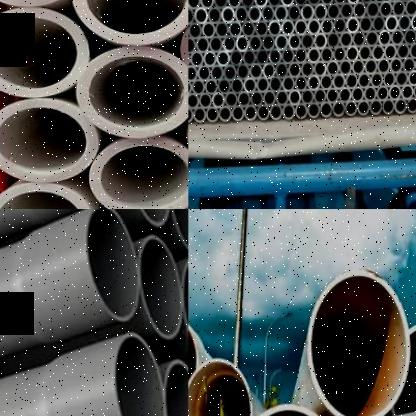pipe: (307, 268, 410, 416), (76, 46, 188, 138), (0, 7, 90, 98), (0, 98, 98, 181), (88, 138, 188, 209), (82, 209, 140, 326), (72, 0, 188, 46), (139, 234, 186, 341), (112, 330, 166, 416), (188, 358, 252, 416), (0, 183, 94, 209), (390, 322, 416, 416), (164, 358, 188, 416), (326, 2, 341, 21), (234, 5, 249, 24), (379, 0, 393, 19), (261, 4, 275, 23), (384, 14, 398, 33), (359, 15, 373, 34), (294, 18, 308, 37), (281, 18, 295, 37), (255, 19, 269, 38), (215, 20, 229, 39), (194, 7, 209, 24), (235, 35, 250, 52), (366, 1, 380, 19), (314, 3, 328, 21), (221, 6, 235, 24), (371, 15, 385, 33), (346, 16, 360, 34), (307, 18, 321, 36), (242, 20, 256, 38), (202, 21, 216, 39), (188, 21, 202, 39), (378, 29, 392, 47), (352, 30, 366, 48), (339, 31, 353, 49), (314, 32, 328, 50), (288, 33, 302, 51), (222, 35, 236, 53), (216, 50, 230, 68), (190, 50, 204, 68), (262, 62, 276, 80), (197, 64, 211, 82), (395, 70, 409, 88), (345, 72, 359, 90), (313, 87, 327, 105), (244, 104, 258, 122), (193, 106, 207, 124), (301, 3, 314, 22), (275, 4, 288, 23), (301, 32, 314, 51), (269, 47, 282, 66), (243, 48, 256, 67), (353, 2, 367, 19), (333, 17, 347, 34), (320, 18, 334, 35), (326, 32, 340, 49), (196, 36, 210, 53), (371, 44, 385, 61), (307, 47, 321, 64), (203, 51, 217, 68), (326, 60, 340, 77), (275, 62, 289, 79), (236, 63, 250, 80), (210, 64, 224, 81), (294, 75, 308, 92), (269, 76, 283, 93), (256, 76, 270, 93), (230, 77, 244, 94), (204, 78, 218, 95), (263, 90, 277, 107), (294, 102, 308, 119), (257, 104, 271, 121), (205, 106, 219, 123), (392, 0, 405, 18), (340, 2, 353, 20), (288, 4, 301, 22), (248, 5, 261, 23), (208, 6, 221, 24), (398, 14, 411, 32), (268, 19, 281, 37), (229, 20, 242, 38), (403, 27, 416, 45), (275, 33, 288, 51), (249, 34, 262, 52), (210, 35, 223, 53), (397, 42, 410, 60), (359, 44, 372, 62), (256, 48, 269, 66), (230, 49, 243, 67), (390, 56, 403, 74), (383, 70, 396, 88), (358, 71, 371, 89), (307, 74, 320, 92), (282, 75, 295, 93), (218, 77, 231, 95), (389, 83, 402, 101), (351, 85, 364, 103), (301, 88, 314, 106), (237, 90, 250, 108), (225, 91, 238, 109), (199, 92, 212, 110), (394, 97, 407, 115), (345, 99, 358, 117), (282, 103, 295, 121), (270, 103, 283, 121), (219, 105, 232, 123), (320, 47, 334, 63), (281, 48, 295, 64), (249, 63, 263, 79), (288, 90, 302, 106), (262, 34, 275, 51), (384, 43, 397, 60), (346, 45, 359, 62), (294, 47, 307, 64), (352, 58, 365, 75), (339, 59, 352, 76), (301, 61, 314, 78), (223, 64, 236, 81), (370, 71, 383, 88), (320, 74, 333, 91), (244, 77, 257, 94), (192, 79, 205, 96), (250, 90, 263, 107), (212, 92, 225, 109), (382, 98, 395, 115), (357, 99, 370, 116), (332, 100, 345, 117), (307, 101, 320, 118), (320, 101, 333, 118), (232, 105, 245, 122), (334, 45, 346, 63), (403, 56, 415, 74), (378, 57, 390, 75), (365, 57, 377, 75), (364, 84, 376, 102), (370, 98, 382, 116), (314, 61, 327, 77), (288, 62, 301, 78), (333, 74, 346, 90), (326, 87, 339, 103), (276, 90, 289, 106), (392, 29, 404, 46), (401, 83, 413, 100), (377, 85, 389, 102), (339, 86, 351, 103), (404, 0, 416, 16), (366, 31, 378, 47), (188, 92, 199, 109), (188, 64, 198, 82), (406, 96, 416, 113), (188, 36, 197, 54), (407, 69, 416, 86), (226, 0, 241, 9), (199, 0, 214, 9), (213, 0, 227, 9), (409, 41, 416, 59), (254, 0, 268, 8), (188, 0, 200, 9), (241, 0, 254, 8), (267, 0, 281, 7), (188, 6, 193, 25), (411, 13, 416, 31), (307, 0, 321, 6), (280, 0, 294, 6), (188, 107, 193, 123), (294, 0, 307, 6), (333, 0, 347, 5), (347, 0, 360, 5), (321, 0, 334, 5), (188, 79, 192, 95), (359, 0, 374, 4), (413, 82, 416, 99), (386, 0, 399, 3), (373, 0, 386, 3)
